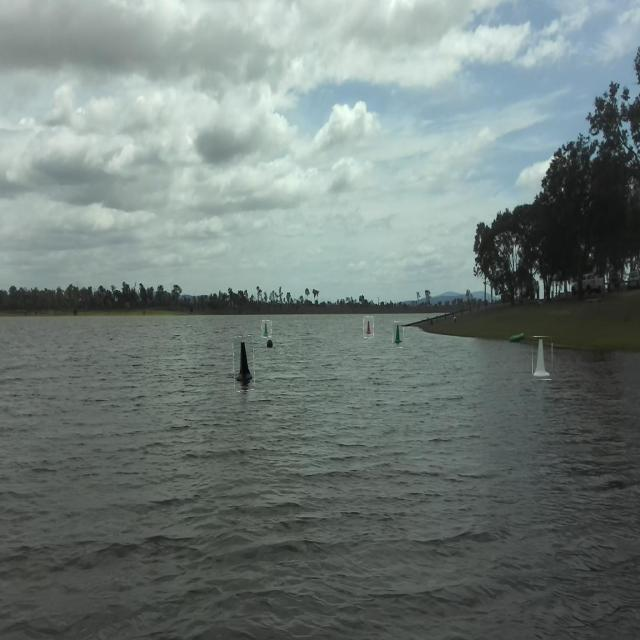Black_Buoy: (232, 336, 254, 388), (265, 339, 274, 351)
Green_Buoy: (394, 321, 403, 346), (262, 320, 273, 338)
Red_Buoy: (364, 316, 374, 338)
White_Buoy: (534, 337, 554, 384)
